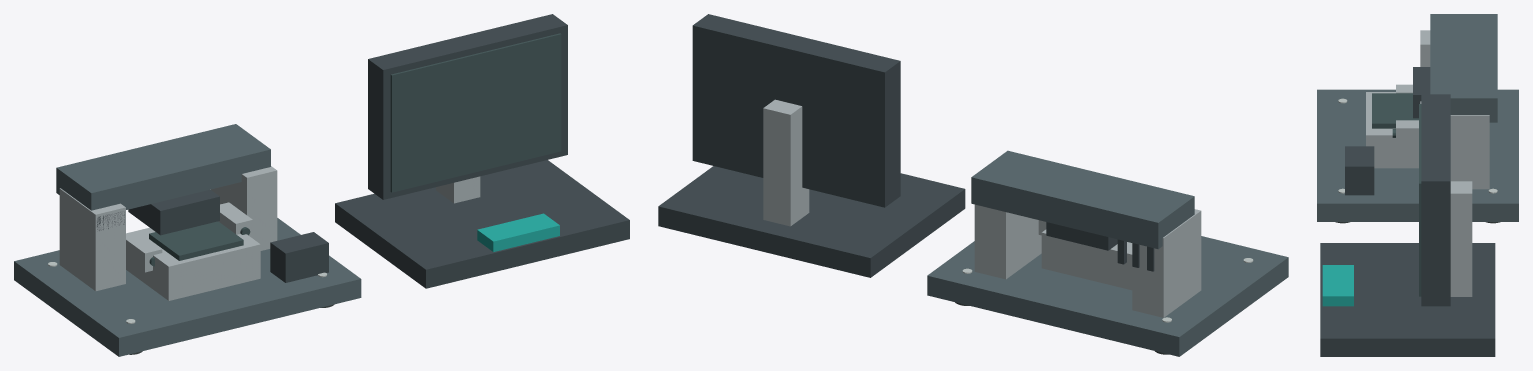
File: fixture-concept-static.glb
3 views of the same model, side by side, from view 1: azimuth 30°, elevation 25°; view 2: azimuth 150°, elevation 25°; view 3: azimuth 270°, elevation 25° (orthographic). The views are drawn at different scales.
Parts seen in each view (by area): view 1: detached_display_glass, detached_card_pedestal, nominal_baseplate, fixed_upper_bridge_shroud, detached_display_case, outer_shroud_support_side, empty_fixed_base_center_cowl, outer_shroud_support_side.001, enclosed_upper_module_blank, blank_side_parapet, sealed_central_cover, detached_card_select_badge (+3 smaller); view 2: detached_display_case, nominal_baseplate, detached_card_pedestal, fixed_upper_bridge_shroud, detached_display_support, outer_shroud_support_side, outer_shroud_support_side.001, empty_fixed_base_center_cowl, enclosed_upper_module_blank; view 3: detached_card_pedestal, nominal_baseplate, fixed_upper_bridge_shroud, detached_display_case, outer_shroud_support_side.001, detached_display_support, empty_fixed_base_center_cowl, blank_side_parapet, sealed_central_cover, detached_card_select_badge, enclosed_upper_module_blank, stationary_outline_extremity.001 (+2 smaller).
Part boxes in pixels (bbox=[...]): detached_display_glass: bbox=[390, 33, 561, 192]; detached_card_pedestal: bbox=[335, 160, 629, 288]; nominal_baseplate: bbox=[14, 218, 361, 356]; fixed_upper_bridge_shroud: bbox=[56, 124, 270, 210]; detached_display_case: bbox=[368, 14, 567, 199]; outer_shroud_support_side: bbox=[59, 188, 125, 291]; empty_fixed_base_center_cowl: bbox=[126, 227, 260, 300]; outer_shroud_support_side.001: bbox=[211, 166, 277, 250]; enclosed_upper_module_blank: bbox=[128, 189, 219, 235]; blank_side_parapet: bbox=[270, 232, 328, 282]; sealed_central_cover: bbox=[149, 221, 243, 260]; detached_card_select_badge: bbox=[477, 213, 559, 251]; detached_display_case: bbox=[692, 14, 900, 207]; nominal_baseplate: bbox=[927, 236, 1288, 356]; detached_card_pedestal: bbox=[658, 166, 965, 277]; fixed_upper_bridge_shroud: bbox=[971, 150, 1194, 249]; detached_display_support: bbox=[763, 99, 809, 226]; outer_shroud_support_side: bbox=[1132, 209, 1201, 317]; outer_shroud_support_side.001: bbox=[974, 204, 1041, 279]; empty_fixed_base_center_cowl: bbox=[1041, 229, 1132, 290]; enclosed_upper_module_blank: bbox=[1046, 222, 1117, 250]; detached_card_pedestal: bbox=[1320, 243, 1495, 356]; nominal_baseplate: bbox=[1317, 89, 1518, 221]; fixed_upper_bridge_shroud: bbox=[1430, 14, 1497, 122]; detached_display_case: bbox=[1421, 94, 1450, 306]; outer_shroud_support_side.001: bbox=[1420, 101, 1489, 189]; detached_display_support: bbox=[1450, 181, 1472, 296]; empty_fixed_base_center_cowl: bbox=[1366, 92, 1418, 168]; blank_side_parapet: bbox=[1345, 146, 1374, 195]; sealed_central_cover: bbox=[1372, 93, 1418, 128]; detached_card_select_badge: bbox=[1322, 265, 1353, 306]; enclosed_upper_module_blank: bbox=[1413, 67, 1430, 118]; stationary_outline_extremity.001: bbox=[1396, 120, 1418, 146].
Size of the model in its own units: 0.508 by 0.1685 by 0.18.
